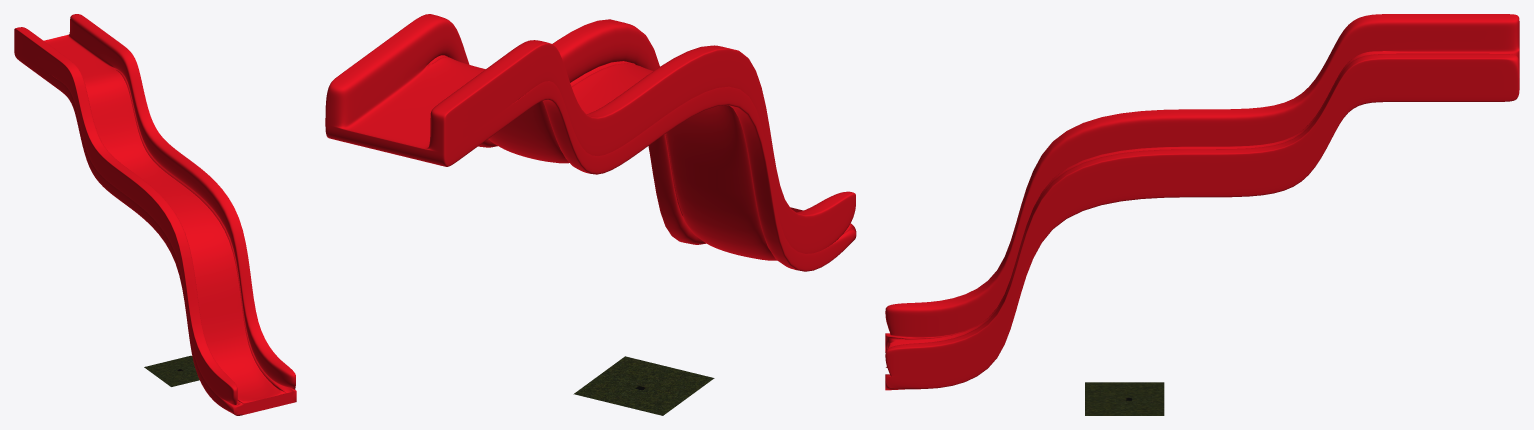
File: realslide2.glb
The picture shows the model from 3 angles, left to right: view 1: azimuth 30°, elevation 25°; view 2: azimuth 150°, elevation 25°; view 3: azimuth 270°, elevation 25°; orthographic projection. The views are drawn at different scales.
Visible parts, largest first — view 1: Slide For Animal Mountain Crossing, Plane; view 2: Slide For Animal Mountain Crossing, Plane; view 3: Slide For Animal Mountain Crossing, Plane.
Part boxes in pixels (x1,y1,x2,y2): Slide For Animal Mountain Crossing: [14, 14, 296, 415]; Plane: [144, 355, 199, 386]; Slide For Animal Mountain Crossing: [325, 14, 856, 271]; Plane: [573, 356, 714, 415]; Slide For Animal Mountain Crossing: [885, 14, 1519, 390]; Plane: [1085, 382, 1164, 415].
Size of the model in its own units: 3.77 by 14.17 by 22.39.
2 materials, 1 textured.
